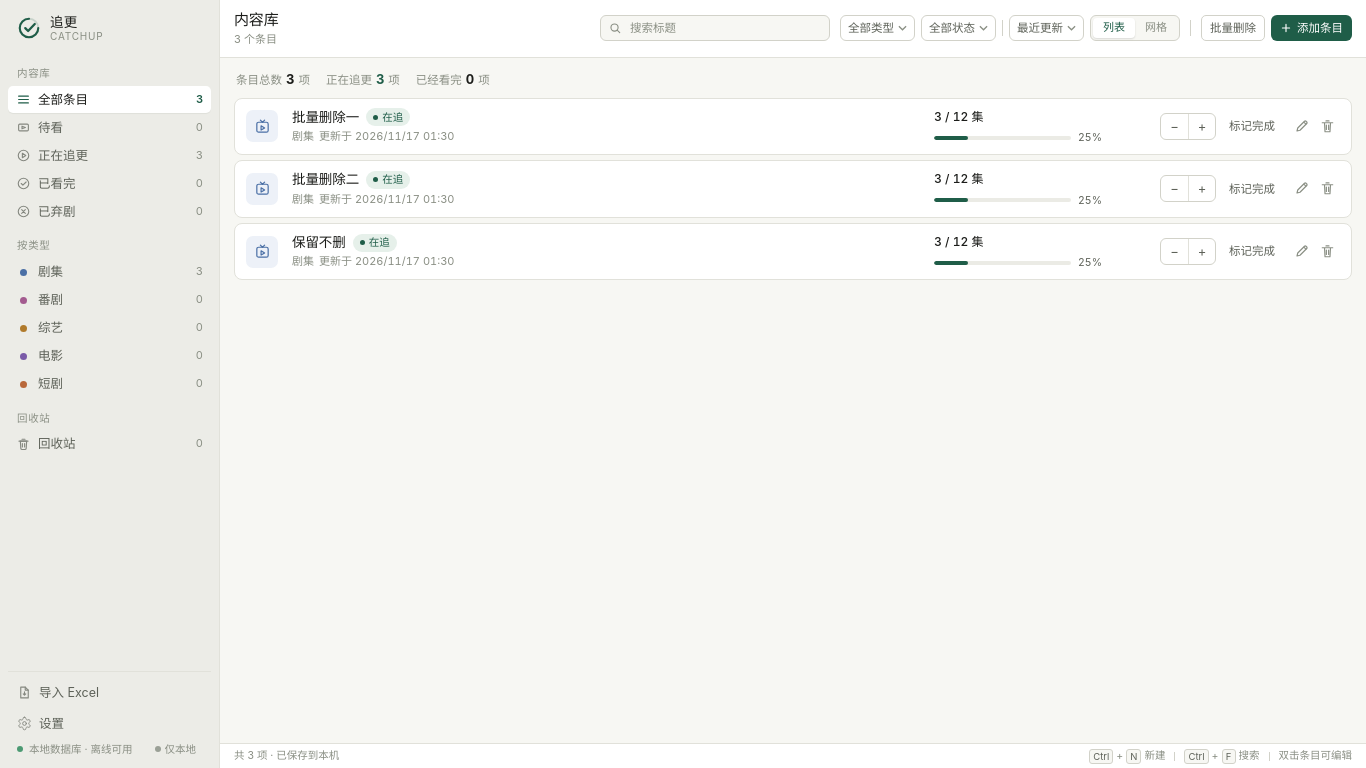
it: 条目管理 › 批量删除：选择条目、确认后只删除所选并退出选择模式
Expected: the element "批量删除一" is shown, [234, 98, 1352, 155]
Click the button "批量删除" at (1233, 28), box [1201, 15, 1265, 41]
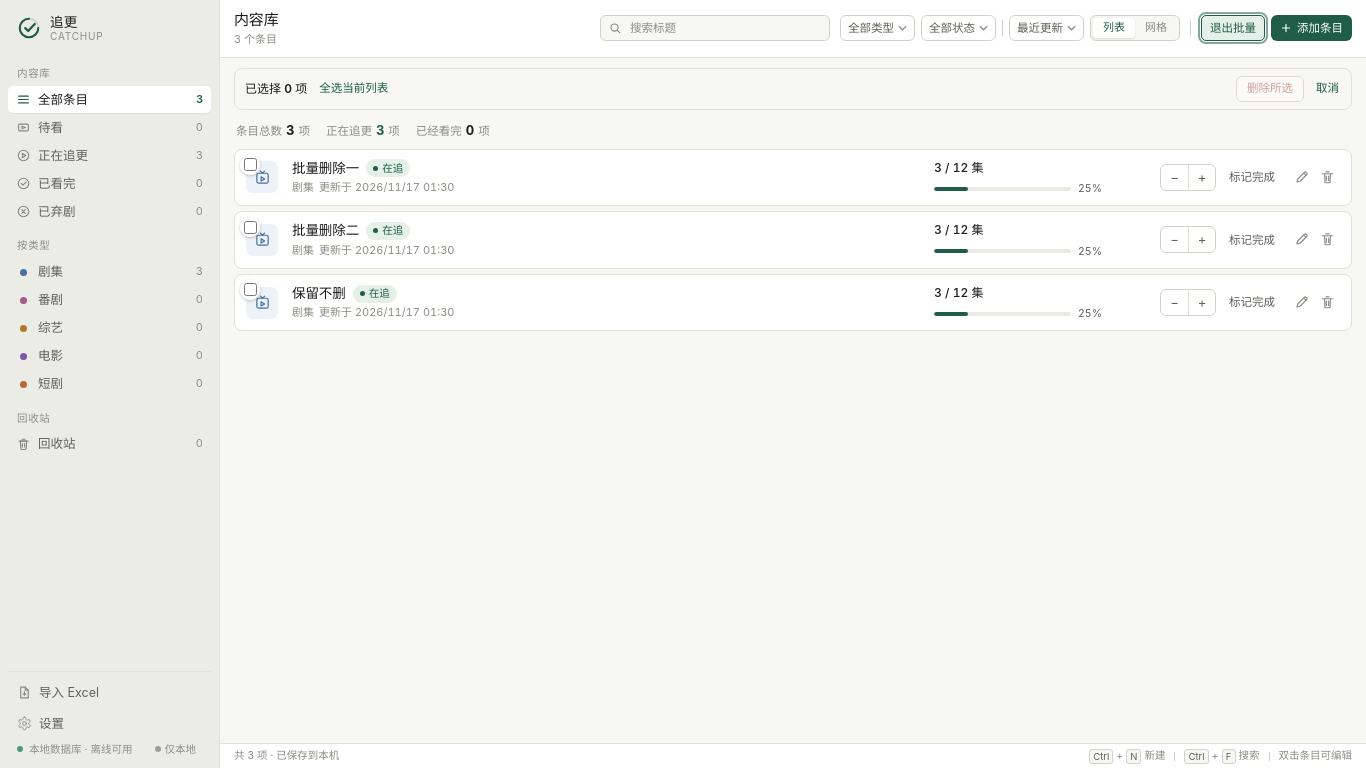
Result: the element named "批量删除" shows "已选择 0 项" at [234, 68, 1352, 110]
Click the checkbox named "选择《批量删除一》" at (250, 164), box [244, 158, 256, 171]
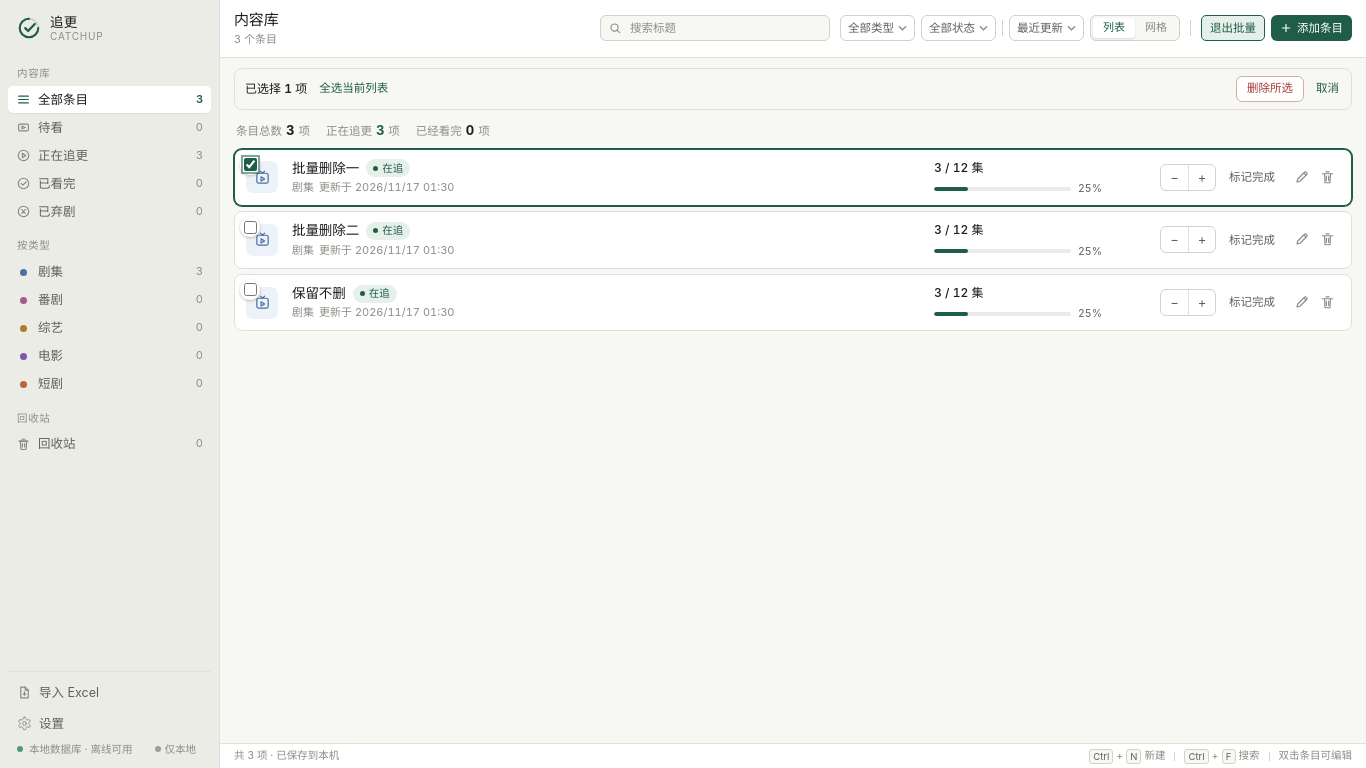
Click the checkbox named "选择《批量删除二》" at (250, 227), box [244, 221, 256, 234]
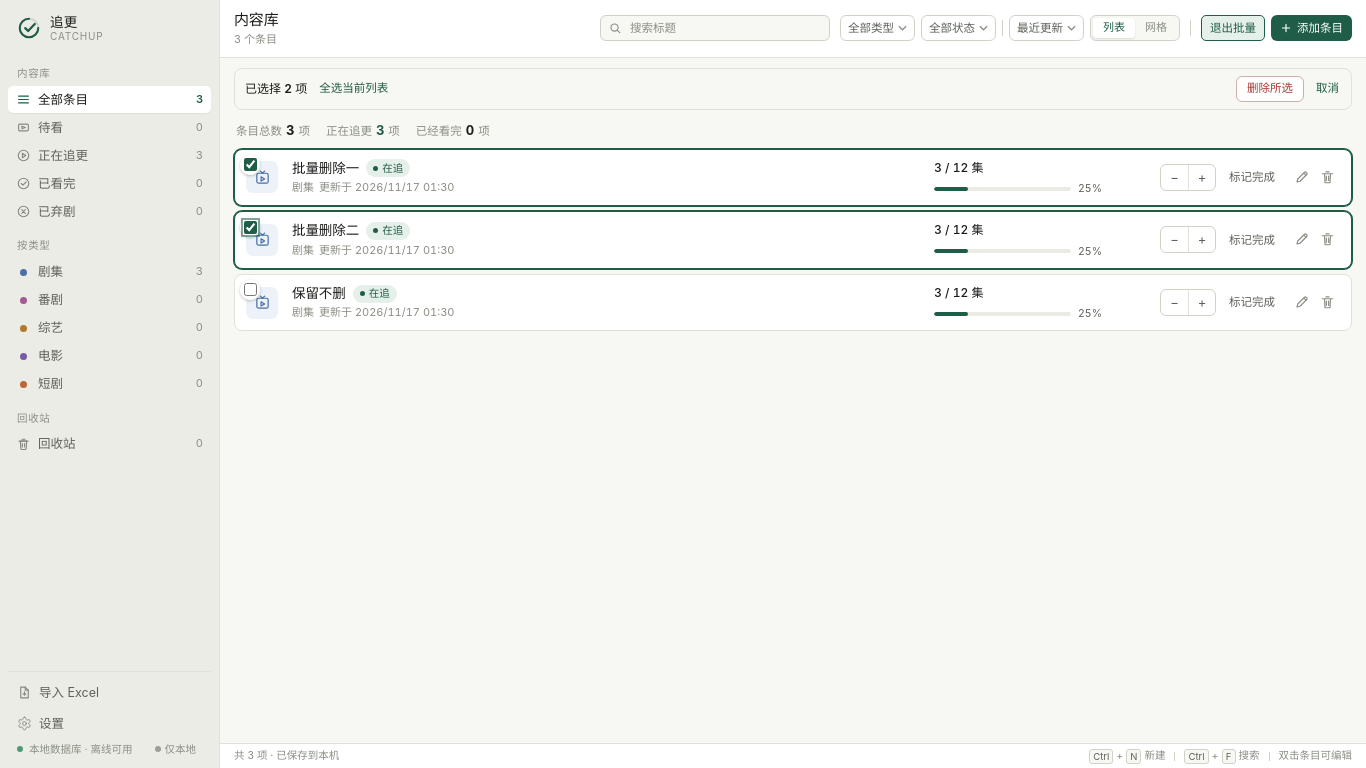
Result: the element named "批量删除" shows "已选择 2 项" at [234, 68, 1352, 110]
Click the button "删除所选" at (1270, 89), box [1236, 76, 1304, 102]
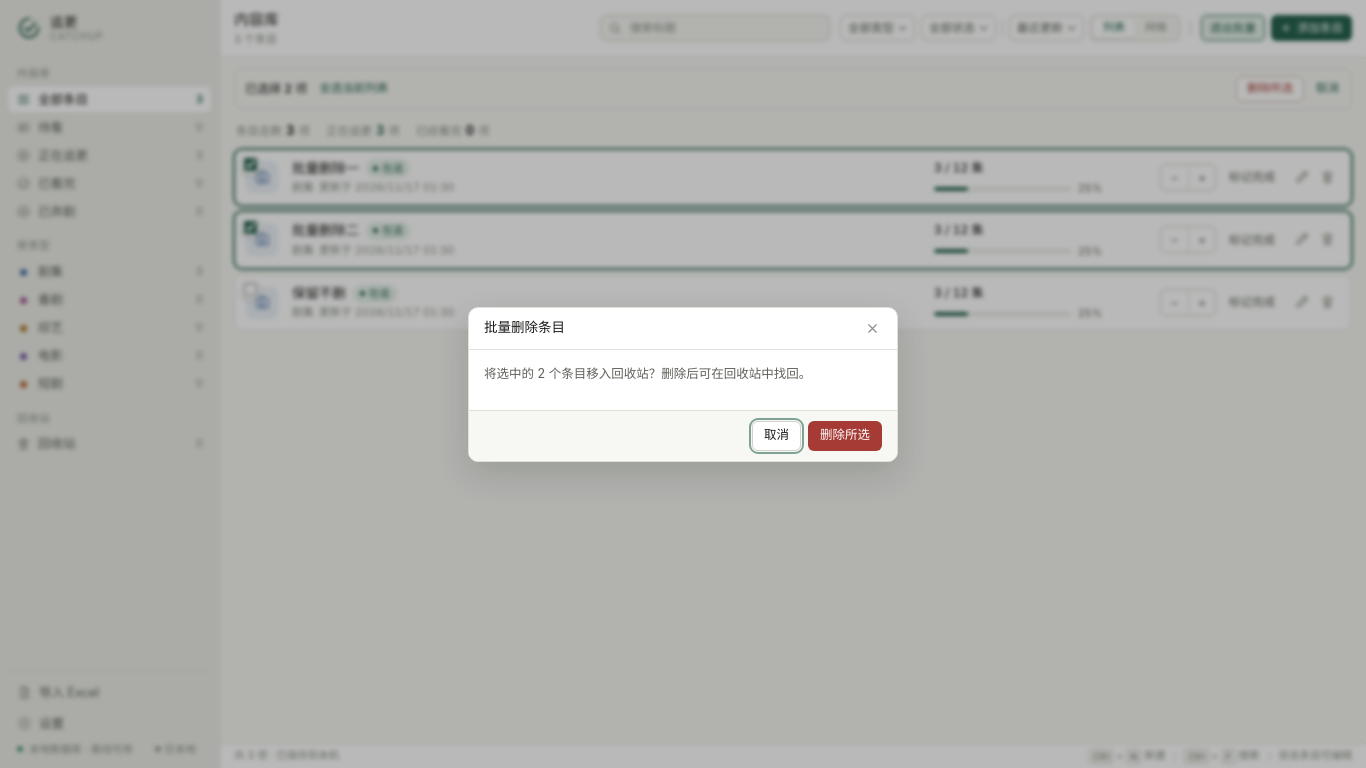
Click the button "删除所选" at (845, 436), box [808, 420, 882, 450]
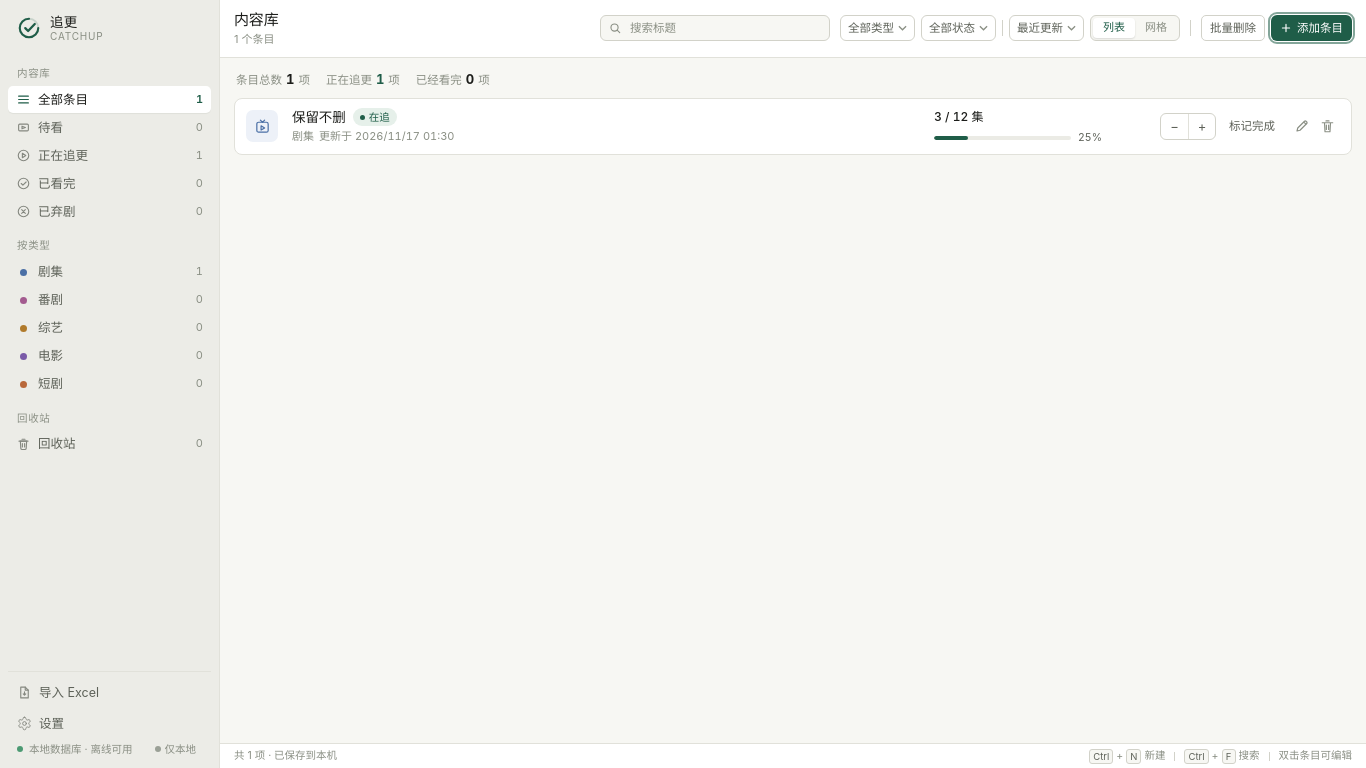
Expected: the element "保留不删" is shown, [234, 98, 1352, 155]
Result: the heading "批量删除一" is gone
Result: the heading "批量删除二" is gone
